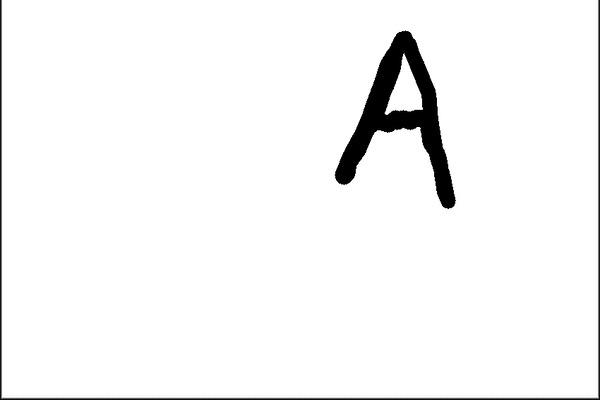A: (323, 21, 468, 219)
